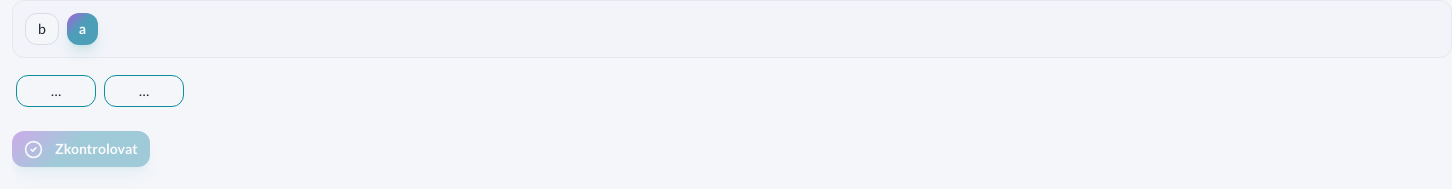
Test: banka slov doplňování › vrácení a nahrazení uvolní původní slovo
Earlier steps of the test are not shown.
Click the button named "Mezera 1". click: click(56, 91)
box: [16,75,96,107]
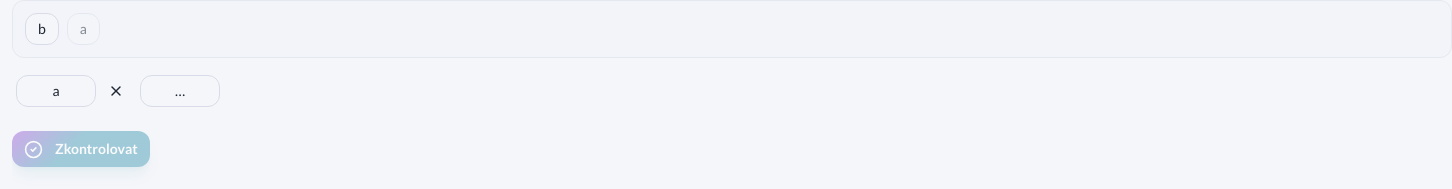
Click the button named "Vrátit slovo z mezery 1". click: click(116, 91)
box: [100,75,132,107]
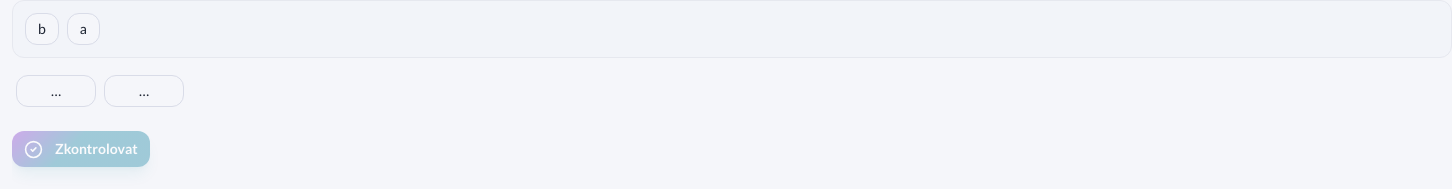
Click the button "a". click: click(83, 29)
box: [67,13,100,45]
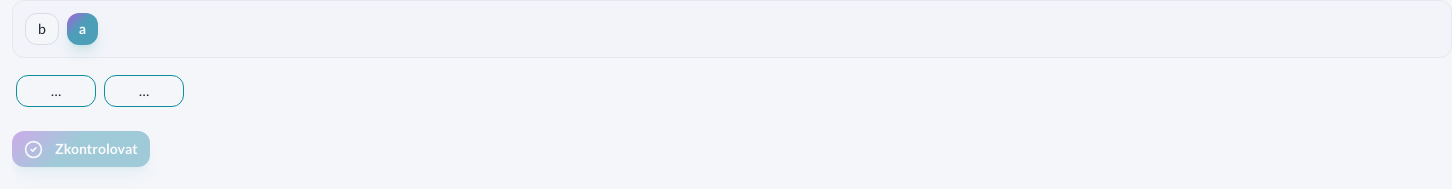
Click the button named "Mezera 1". click: click(56, 91)
box: [16,75,96,107]
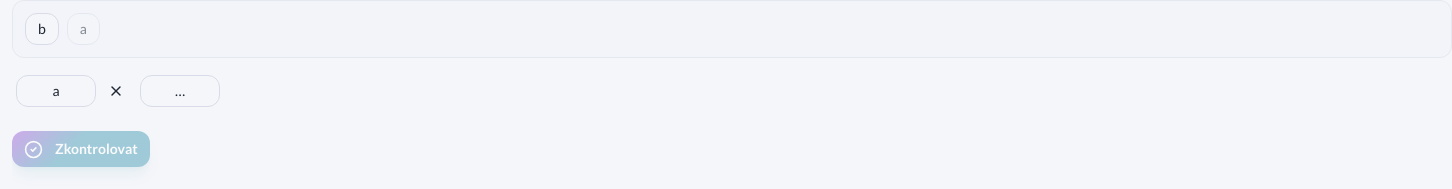
Click the button "b". click: click(42, 29)
box: [25,13,59,45]
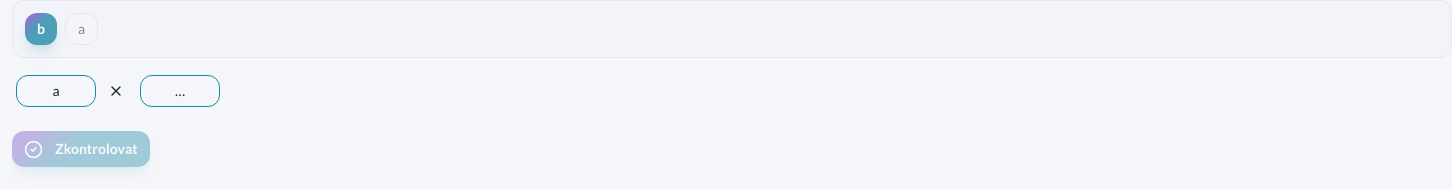
Click the button named "Mezera 1: a". click: click(56, 91)
box: [16,75,96,107]
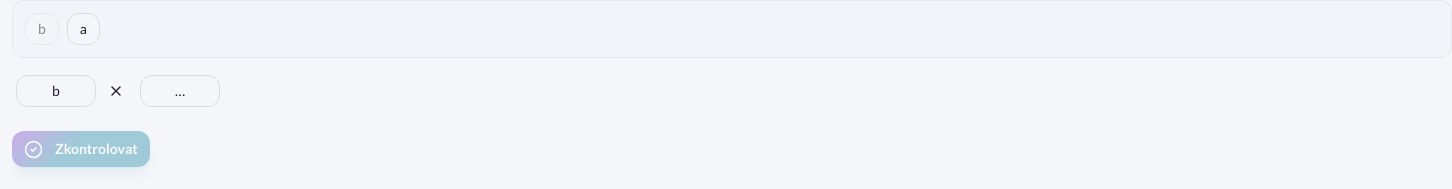
Result: the button "a" is enabled at [67,13,100,45]
Result: the 1st button "b" is disabled at [25,13,59,45]
